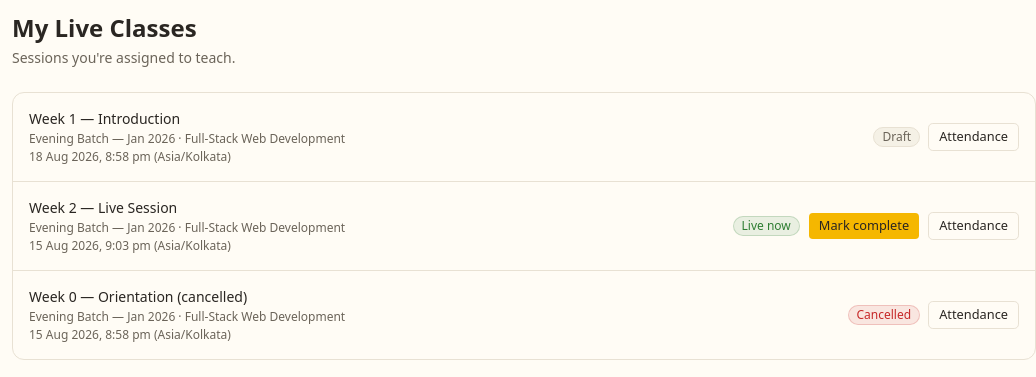
Test: TrainerLiveClassesPage › marks a LIVE session complete via the row action
expect the text "Week 2 — Live Session" is shown: met, box [29,198,177,217]
What coordinates should you click on to do the following:
click the button "Mark complete"
I would click on:
 (864, 226)
Its box is [808,212,920,240].
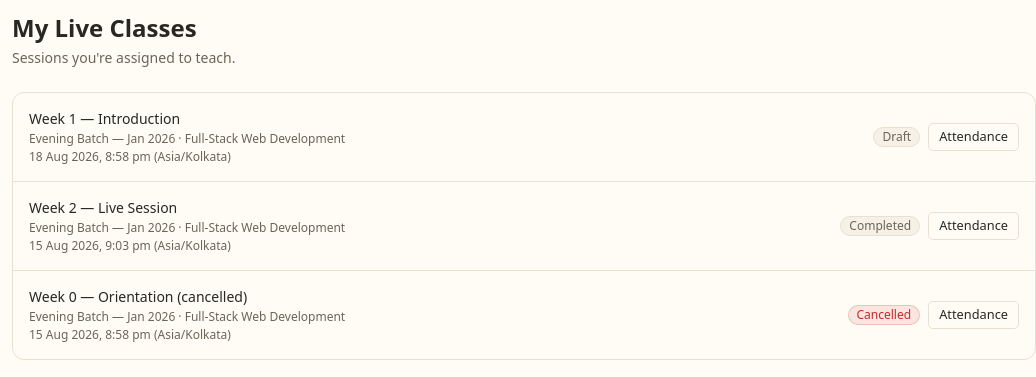
expect the text "Completed" is shown: met, box [840,216,920,236]
